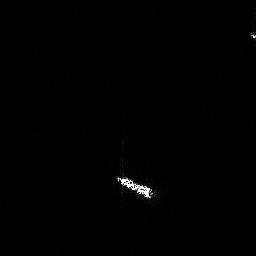ship: (113, 171, 160, 203)
